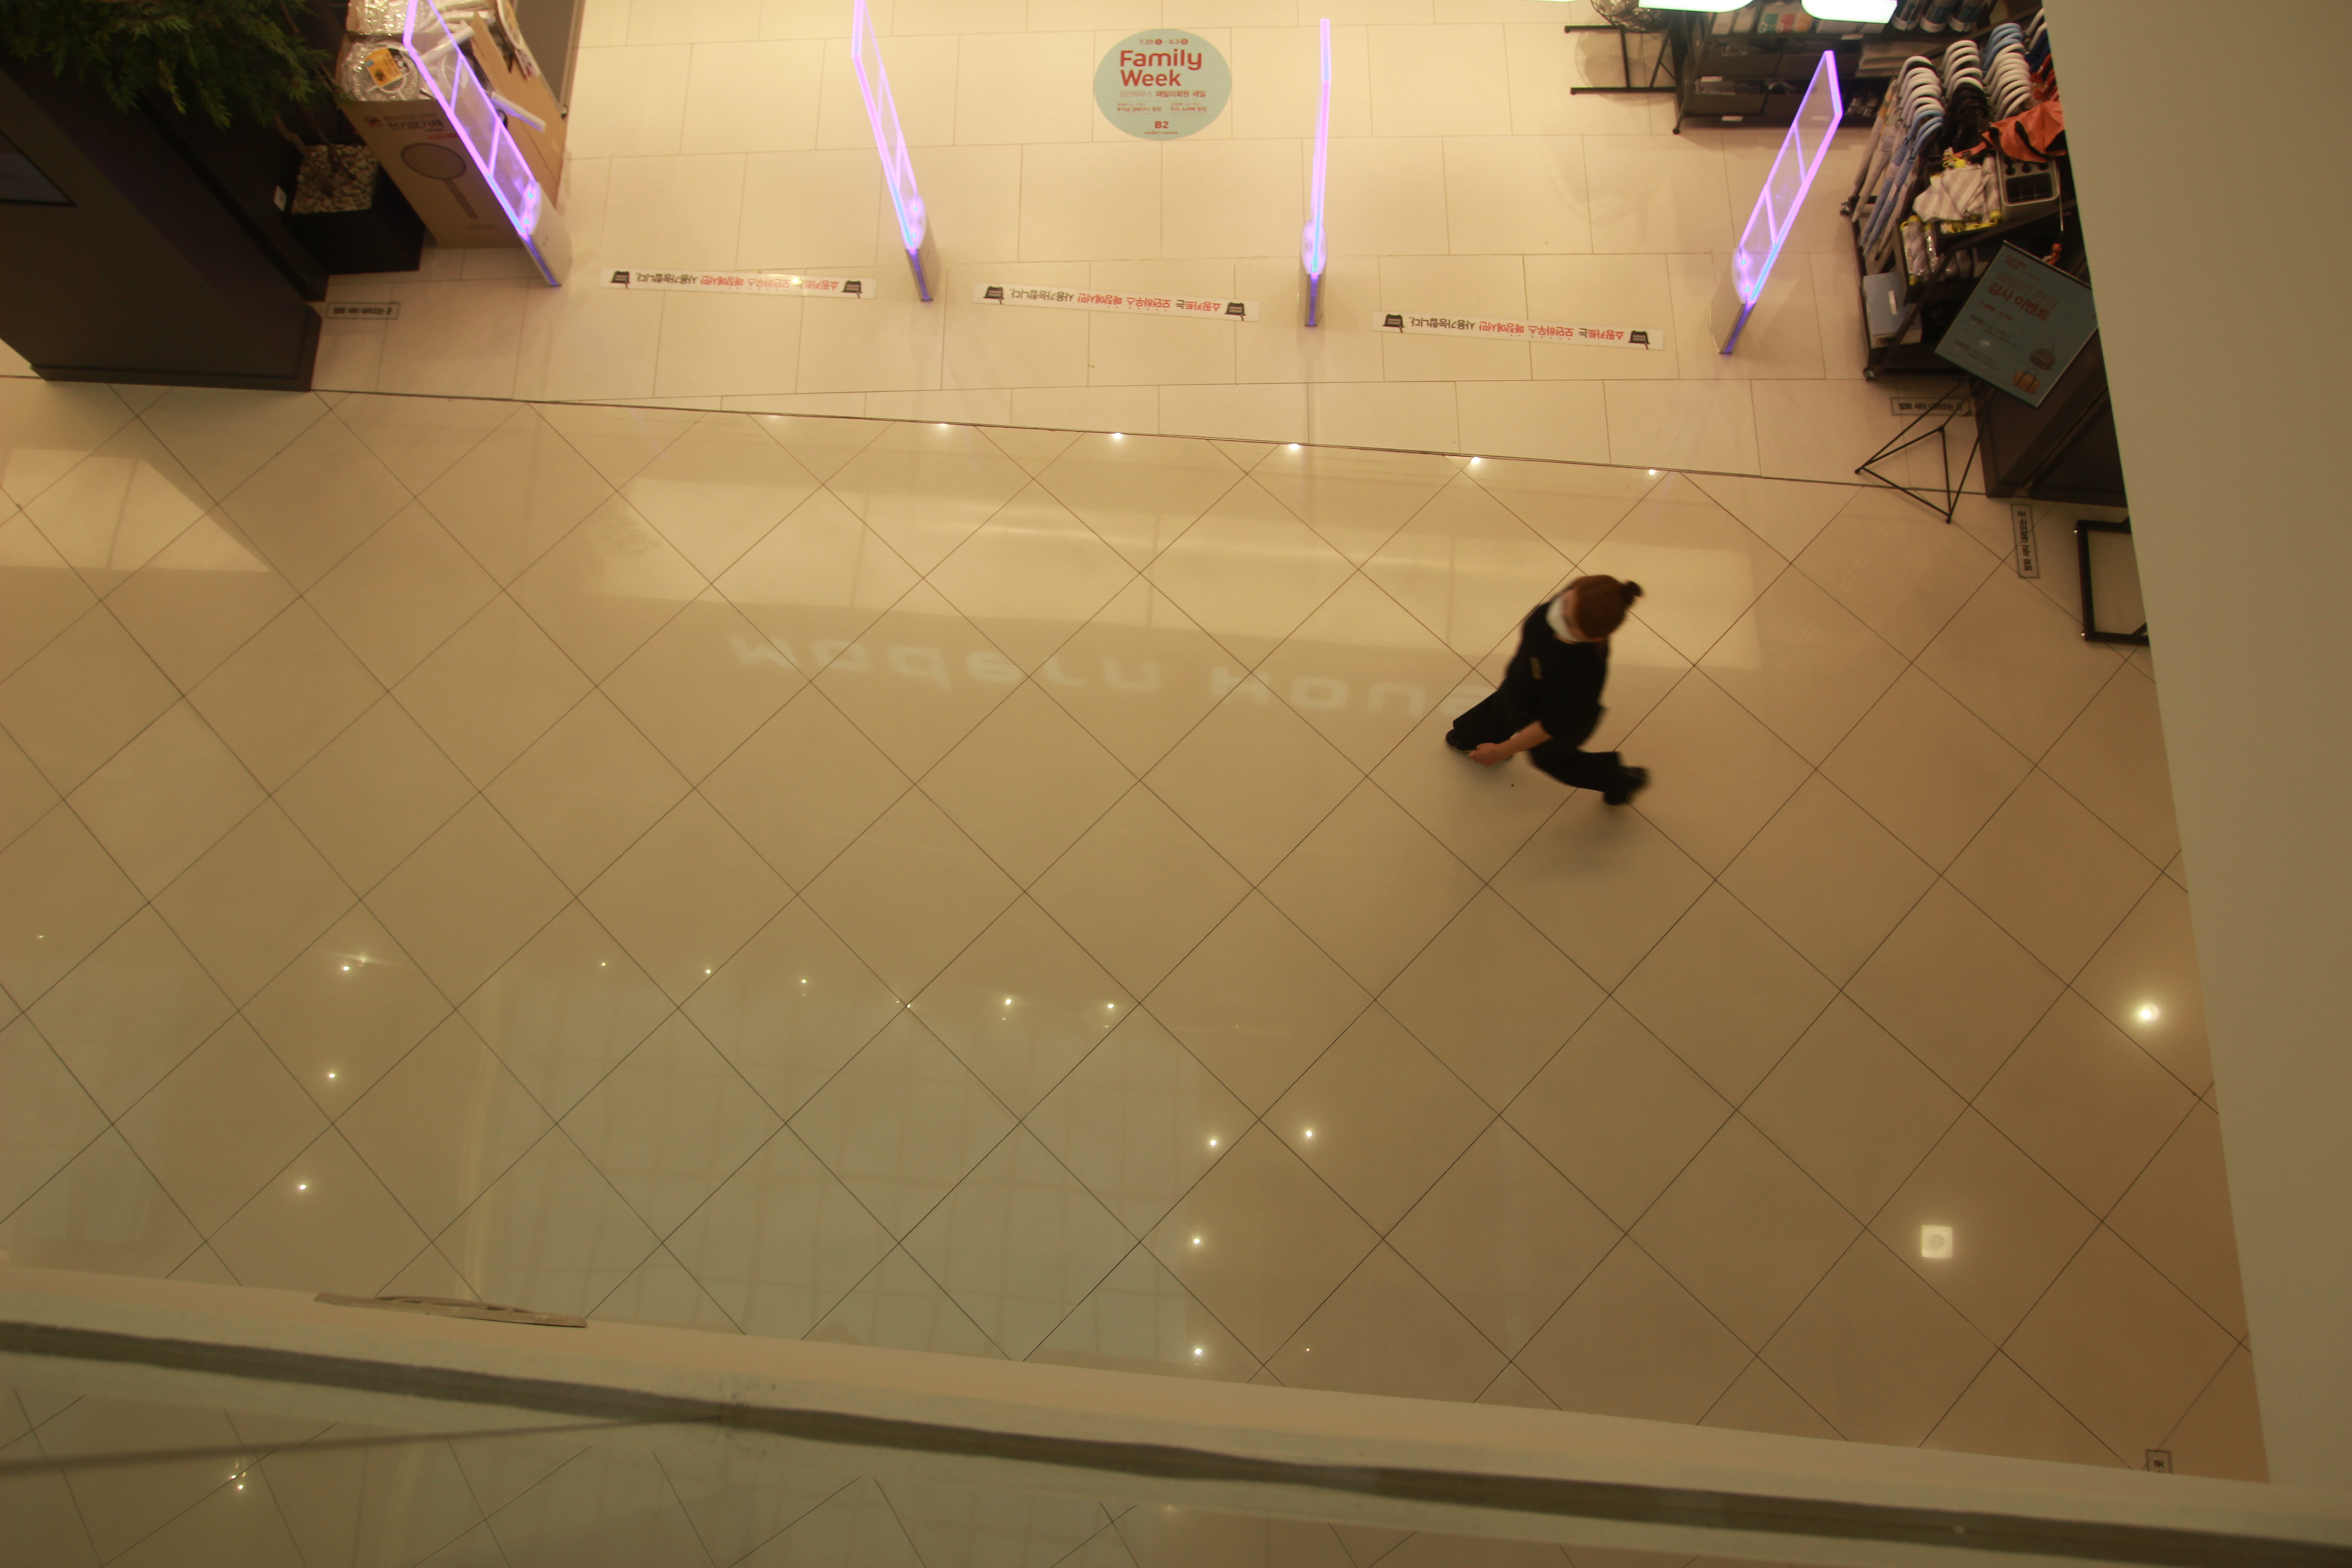person: (1444, 576, 1650, 810)
